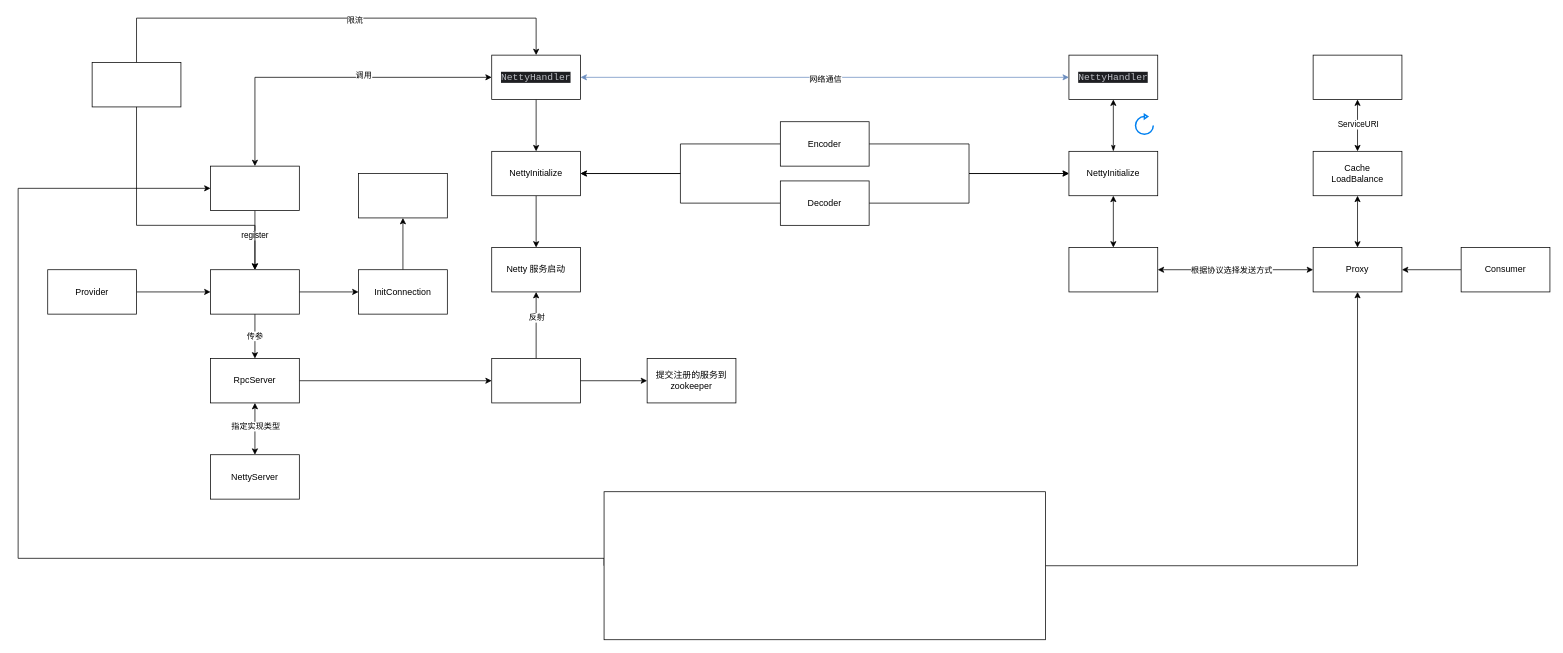
The diagram is 1563 pixels wide and 653 high, and some of its shapes have lost their labels. Each missing label, with the centre of its shape:
"Netty 服务发送数据" belongs at point 1113,269.
"RateLimit" belongs at point 136,84.
"RpcServerBuilder Start" belongs at point 536,380.
"ServiceCenter" belongs at point 254,291.
"ServiceImpl" belongs at point 254,188.
"ServiceInterface" belongs at point 824,565.
"watch" belongs at point 402,195.
"Zookeeper" belongs at point 1357,77.
